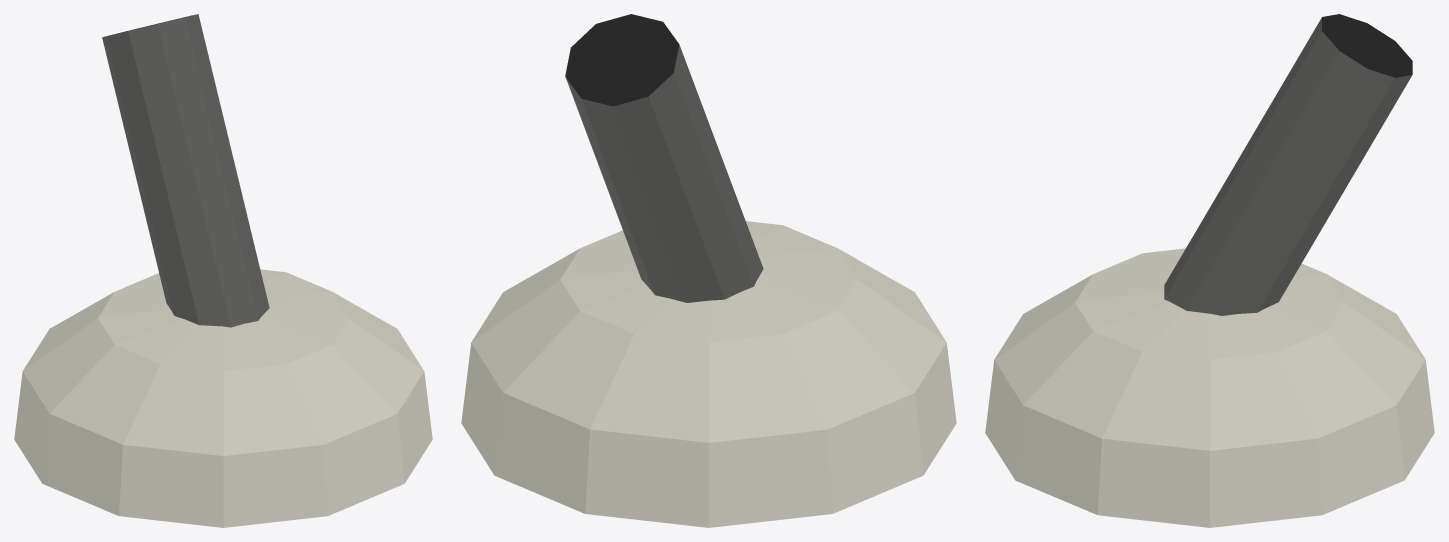
Rendered from Building_Turret_AutoMortar__Top.glb.
3 views of the same model, side by side, from view 1: azimuth 30°, elevation 25°; view 2: azimuth 150°, elevation 25°; view 3: azimuth 270°, elevation 25° (orthographic). The views are drawn at different scales.
Visible parts, largest first — view 1: Turret_AutoMortar__Top; view 2: Turret_AutoMortar__Top; view 3: Turret_AutoMortar__Top.
Part boxes in pixels (<box>): Turret_AutoMortar__Top: <box>14,14,432,527</box>; Turret_AutoMortar__Top: <box>461,14,956,527</box>; Turret_AutoMortar__Top: <box>985,14,1434,527</box>.
Size of the model in its own units: 1 by 1 by 1.
Materials: 1 (1 with a texture image).
